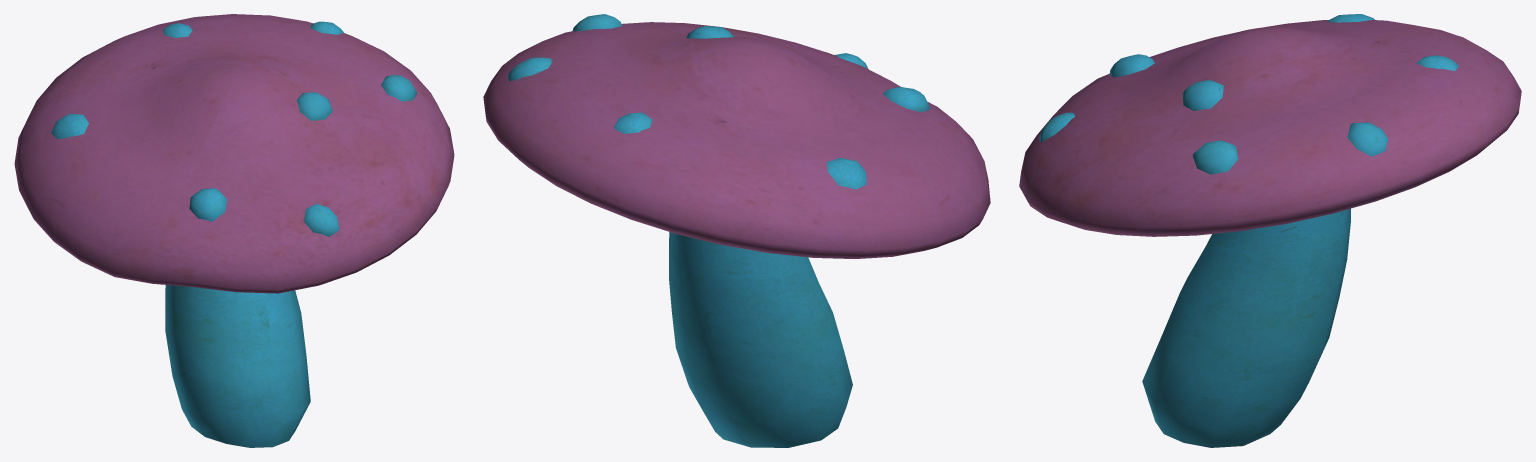
File: Mushroom_Large_02.fbx
The picture shows the model from 3 angles, left to right: view 1: azimuth 30°, elevation 25°; view 2: azimuth 150°, elevation 25°; view 3: azimuth 270°, elevation 25°; orthographic projection. The views are drawn at different scales.
Visible parts, largest first — view 1: Mushroom_Large_02; view 2: Mushroom_Large_02; view 3: Mushroom_Large_02.
Boxes of the visible parts, x1,y1,x2,y2 form: Mushroom_Large_02: (14, 14, 454, 447); Mushroom_Large_02: (483, 14, 990, 447); Mushroom_Large_02: (1019, 14, 1521, 447).
Size of the model in its own units: 9.87 by 9.81 by 8.42.
